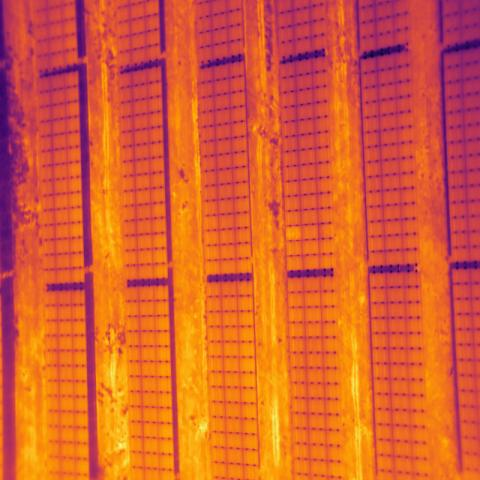fault: (285, 225, 302, 244)
